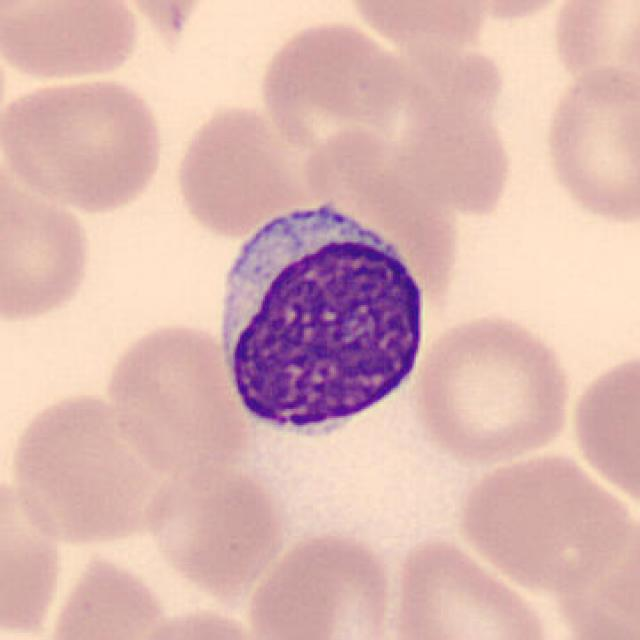Lymphocyte: (206, 189, 441, 451)
RBC: (453, 448, 635, 594), (410, 309, 578, 467), (3, 390, 164, 548), (0, 72, 169, 215), (100, 318, 250, 474), (254, 15, 411, 152), (169, 99, 322, 238), (142, 458, 288, 594), (384, 532, 564, 640), (242, 529, 398, 640), (538, 61, 640, 229), (390, 97, 518, 219), (0, 166, 96, 328), (567, 342, 640, 515), (0, 466, 71, 638), (2, 0, 144, 85), (42, 550, 170, 640), (548, 0, 638, 108), (341, 0, 494, 49), (103, 0, 224, 48), (120, 604, 270, 640), (438, 0, 596, 23)
